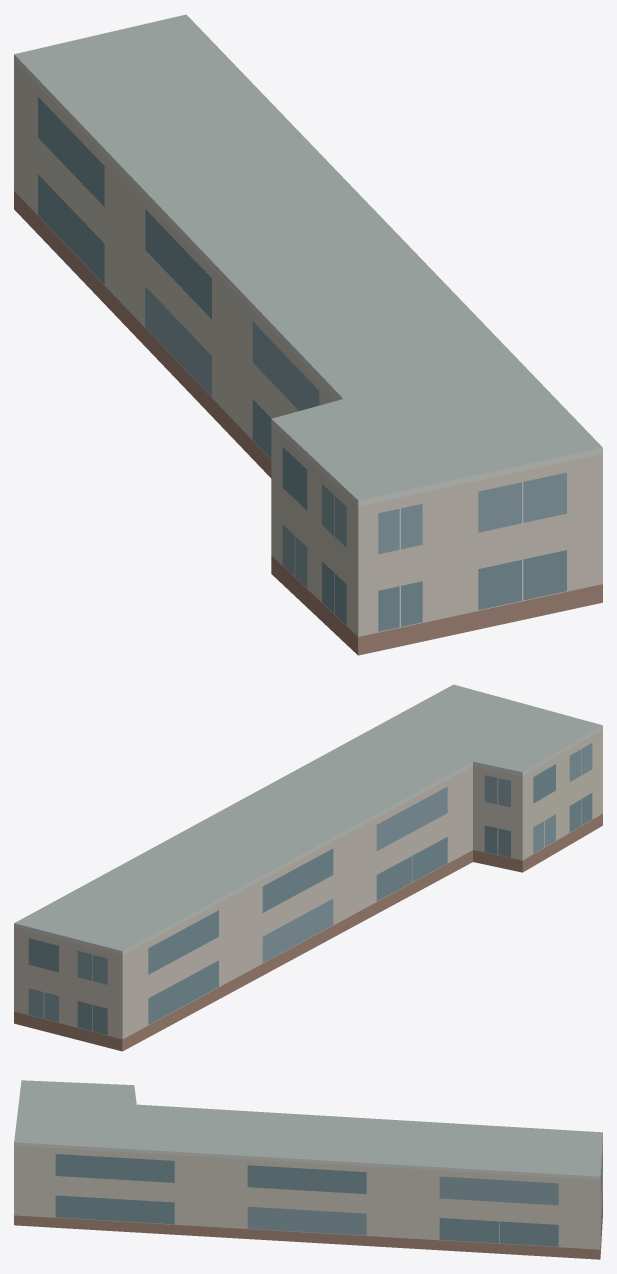
File: survey-upis-32489561.glb
3 renders of one model, top to bottom at view 1: azimuth 30°, elevation 25°; view 2: azimuth 150°, elevation 25°; view 3: azimuth 270°, elevation 25°, orthographic. The views are drawn at different scales.
Visible parts, largest first — view 1: survey-upis-32489561.tmp; view 2: survey-upis-32489561.tmp; view 3: survey-upis-32489561.tmp.
Boxes of the visible parts, x1,y1,x2,y2 form: survey-upis-32489561.tmp: (14, 14, 602, 655); survey-upis-32489561.tmp: (14, 684, 602, 1051); survey-upis-32489561.tmp: (14, 1080, 602, 1259).
Size of the model in its own units: 15.21 by 6.1 by 39.25.
